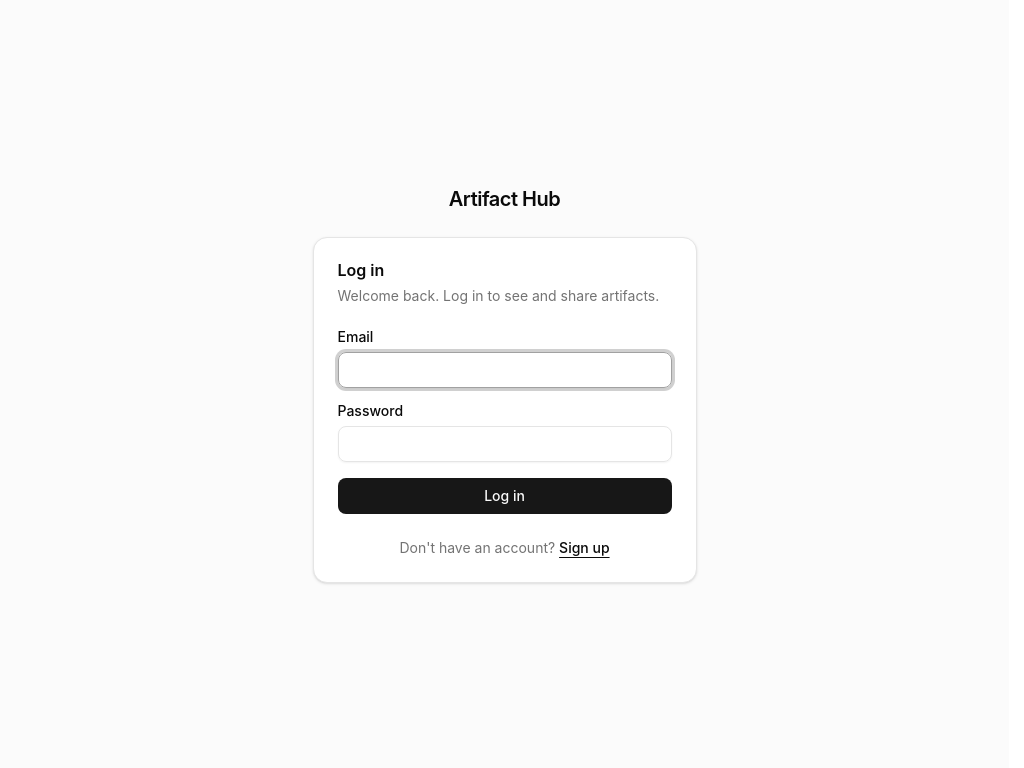
Test: auth flow › login › ignores a ?next= that points to another site
The image size is (1024, 768).
Type "ada@example.com" into the field labelled "Email".
click(504, 370); type("ada@example.com")  # box [338, 352, 672, 388]
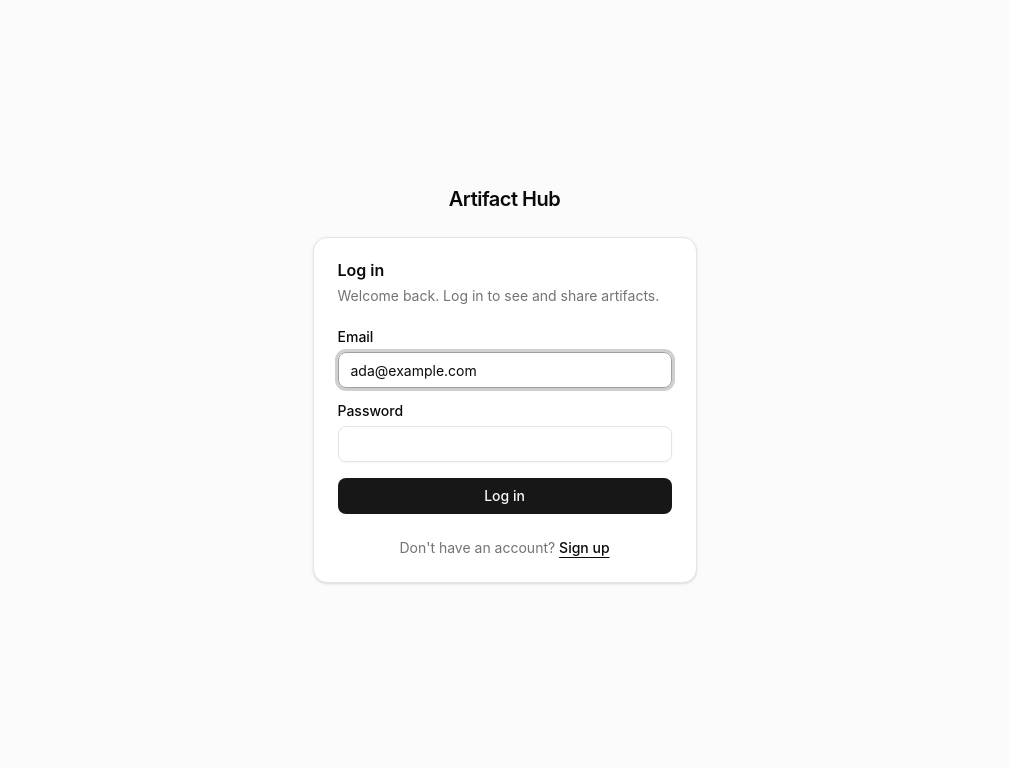
Type "correct horse" into the password field labelled "Password".
click(504, 444); type("correct horse")  # box [338, 426, 672, 462]
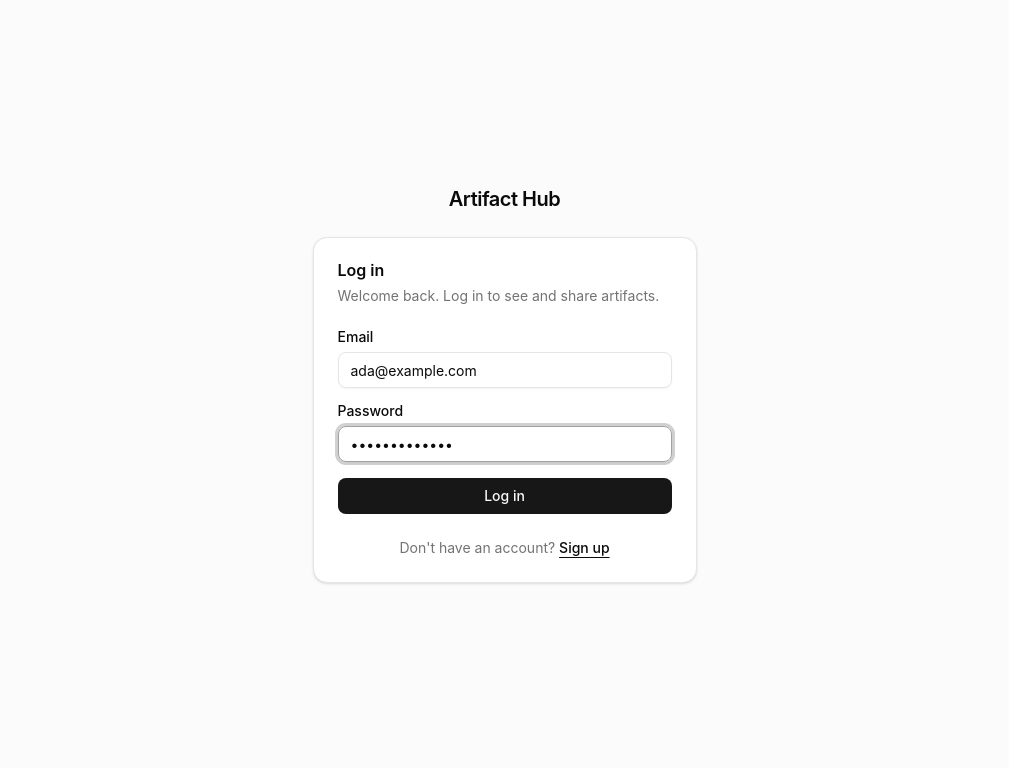
Click the button "Log in".
click(504, 496)  # box [338, 478, 672, 514]
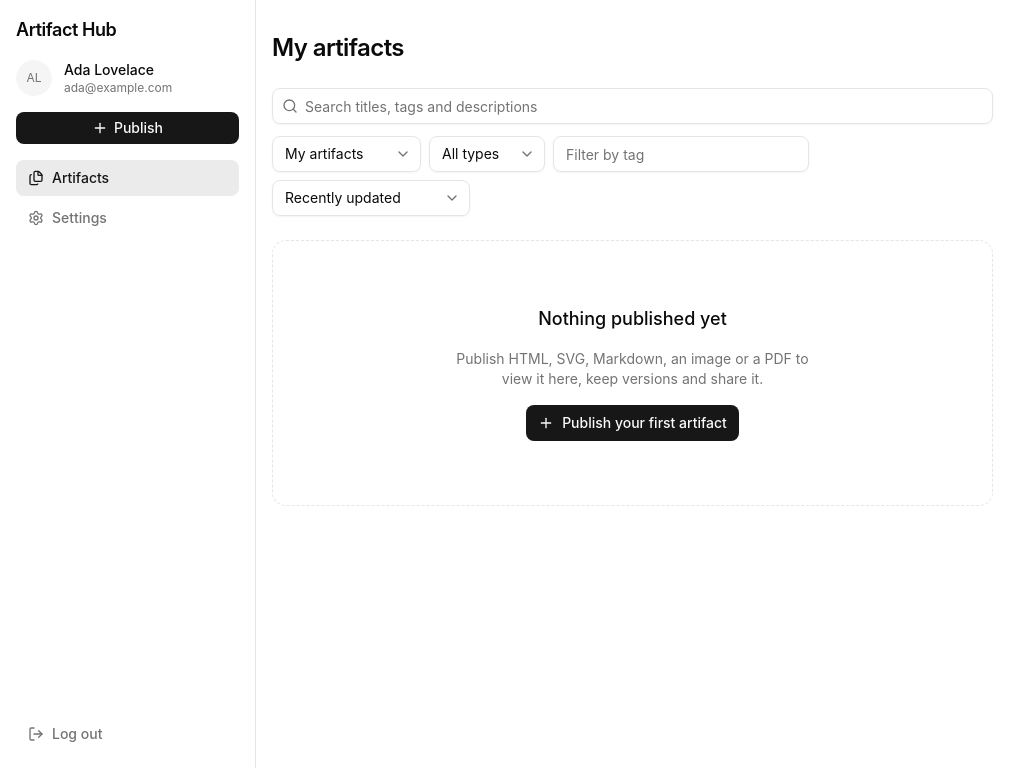
expect the heading "My artifacts" is shown: met, box [272, 32, 404, 64]
